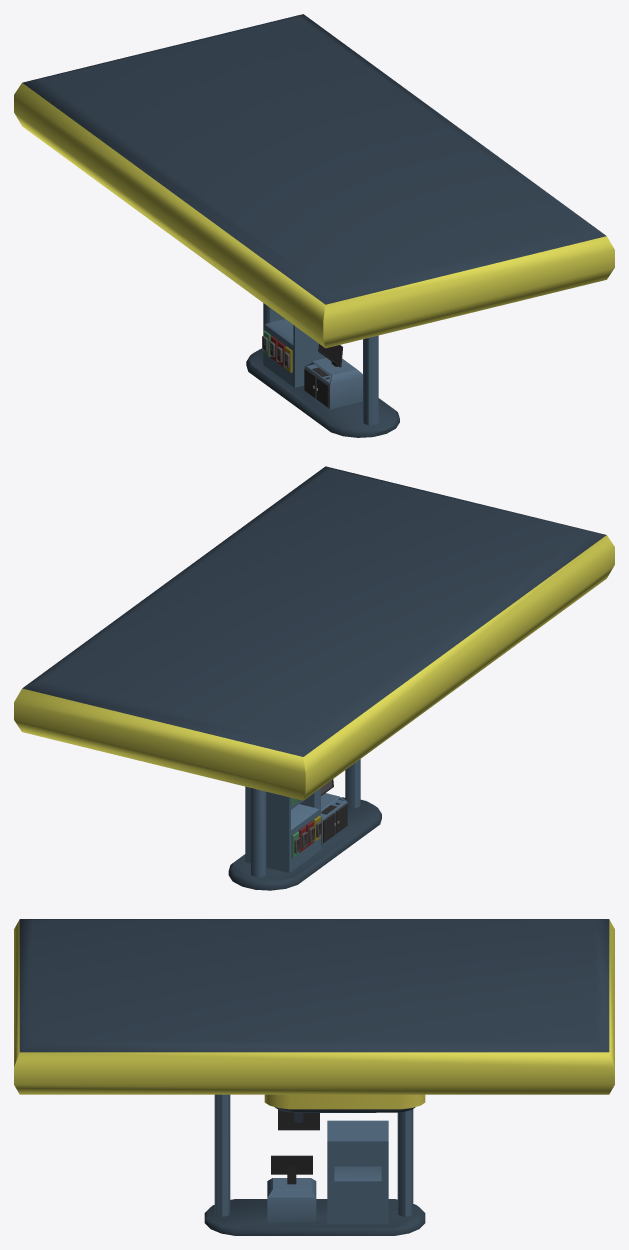
The model's file is Posto_P.fbx.
The picture shows the model from 3 angles, top to bottom: view 1: azimuth 30°, elevation 25°; view 2: azimuth 150°, elevation 25°; view 3: azimuth 270°, elevation 25°; orthographic projection. The views are drawn at different scales.
Visible parts, largest first — view 1: Posto.P; view 2: Posto.P; view 3: Posto.P.
Part boxes in pixels (x1,y1,x2,y2): Posto.P: (14,14,614,437); Posto.P: (14,466,614,890); Posto.P: (14,919,614,1235).
Bounding box in the file's own units: 853 × 677 × 1568.
